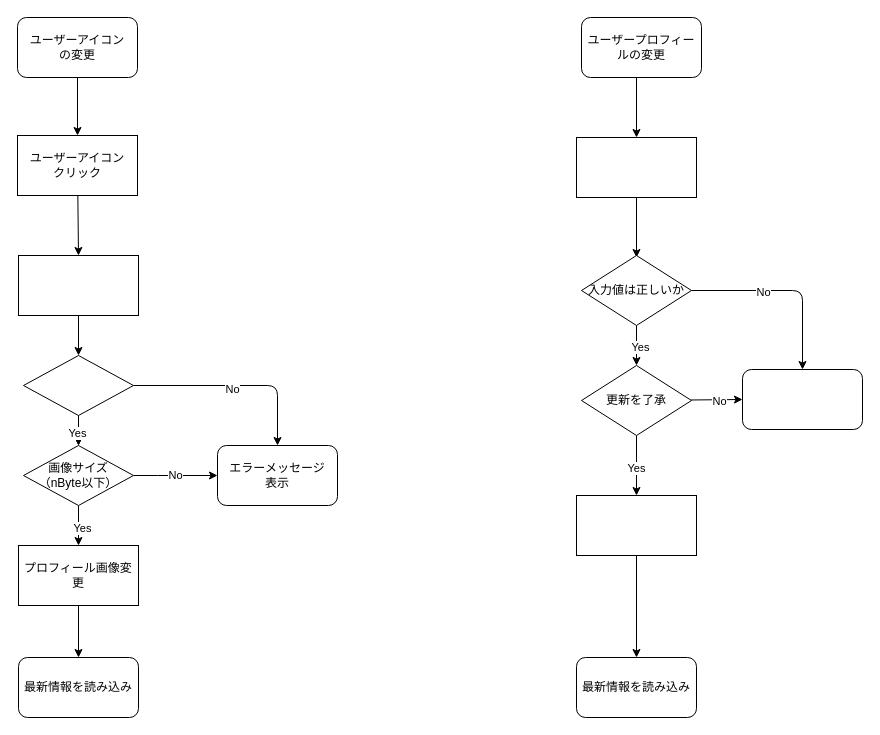
Some shapes in this 880 by 735 pixel diagram are drawn without their labels. The shapes that lost their labels are listed below. From the top down, each one's centre as x and y in pixels, then its label:
At (636,167): "確認ボタン押下".
At (78,285): "画像選択".
At (78,385): "jpeg, png".
At (802,399): "エラーメッセージ表示".
At (636,525): "ユーザー情報変更".
